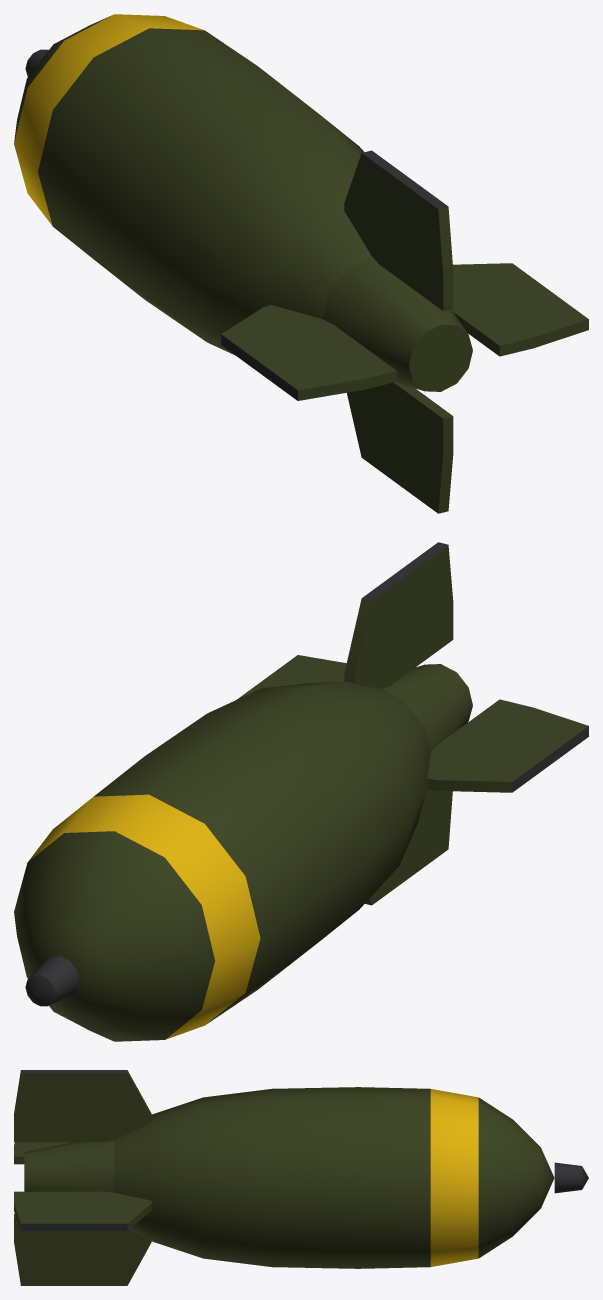
The model's file is napalm_bomb.obj.
3 views of the same model, one above another, from view 1: azimuth 30°, elevation 25°; view 2: azimuth 150°, elevation 25°; view 3: azimuth 270°, elevation 25° (orthographic). The views are drawn at different scales.
Parts seen in each view (by area): view 1: napalm_bomb; view 2: napalm_bomb; view 3: napalm_bomb.
Boxes of the visible parts, x1,y1,x2,y2 form: napalm_bomb: [14, 14, 588, 513]; napalm_bomb: [14, 542, 588, 1041]; napalm_bomb: [14, 1070, 588, 1285].
Bounding box in the file's own units: 0.3461 × 0.3461 × 0.85.
